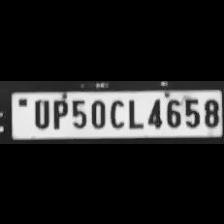0: (88, 96, 106, 128)
4: (142, 95, 164, 127)
5: (68, 96, 88, 128), (182, 94, 200, 128)
6: (163, 95, 181, 127)
8: (200, 95, 220, 127)
C: (107, 96, 125, 128)
L: (124, 96, 142, 128)
P: (48, 96, 68, 128)
U: (30, 96, 50, 128)
